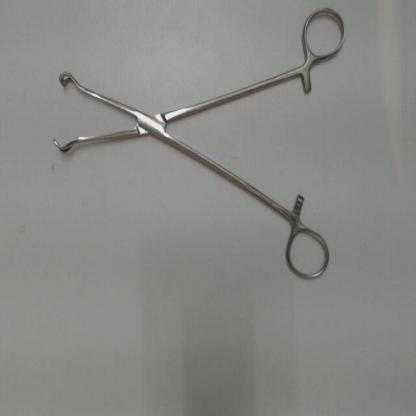8 Babcock Tissue Forceps: (48, 5, 350, 285)
